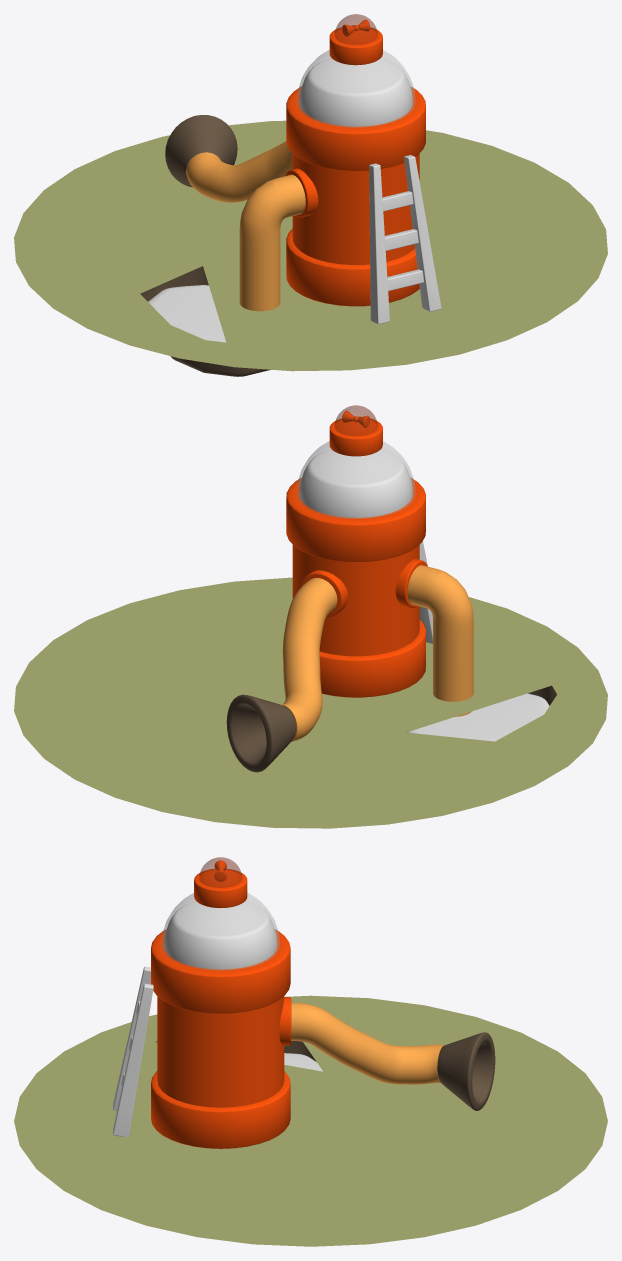
The model's file is fire_modeling.fbx.
3 views of the same model, one above another, from view 1: azimuth 30°, elevation 25°; view 2: azimuth 150°, elevation 25°; view 3: azimuth 270°, elevation 25° (orthographic).
Parts seen in each view (by area): view 1: fire_ground, fire_building, fire_dom_water, fire_ledder, fire_ground_water; view 2: fire_ground, fire_building, fire_dom_water, fire_ground_water; view 3: fire_ground, fire_building, fire_dom_water, fire_ledder.
Boxes of the visible parts, <box> form: fire_ground: <box>14,120,607,376</box>; fire_building: <box>165,14,425,311</box>; fire_dom_water: <box>299,58,412,126</box>; fire_ledder: <box>369,155,441,324</box>; fire_ground_water: <box>148,285,226,342</box>; fire_ground: <box>14,577,607,828</box>; fire_building: <box>226,405,473,772</box>; fire_dom_water: <box>299,449,412,517</box>; fire_ground_water: <box>407,693,549,741</box>; fire_ground: <box>14,995,607,1246</box>; fire_building: <box>151,857,495,1148</box>; fire_dom_water: <box>164,901,277,969</box>; fire_ledder: <box>113,966,153,1136</box>.
Size of the model in its own units: 898 by 498 by 898.
